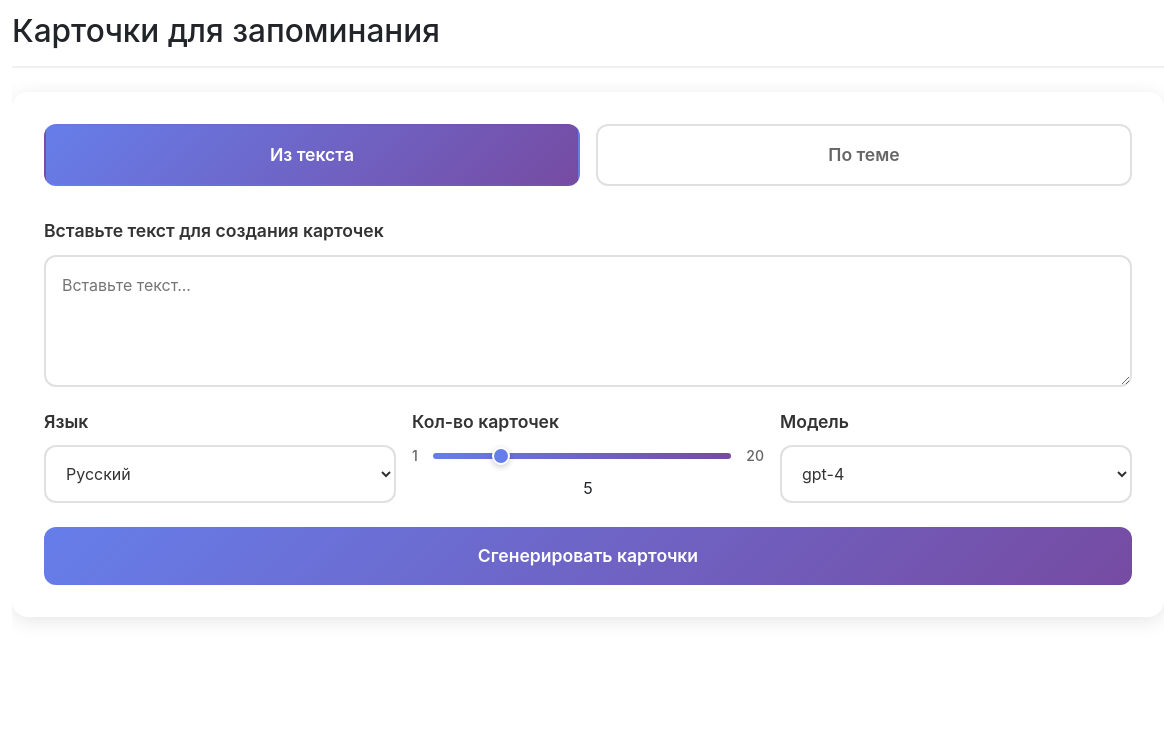
Test: FlashcardsPage › should generate flashcards from text
Type "Тестовый текст для карточек" into the text box with placeholder "Вставьте текст...".
click(588, 321); type("Тестовый текст для карточек")  # box [44, 255, 1132, 387]
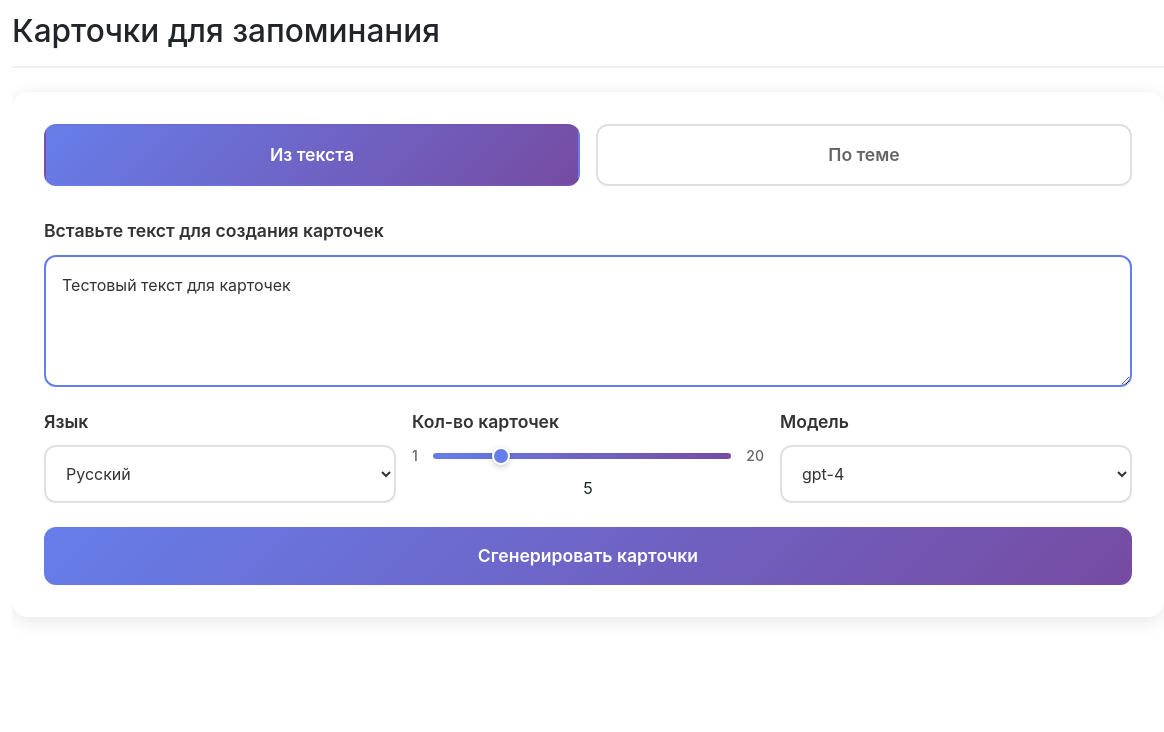
Click the button "Сгенерировать карточки".
click(588, 556)  # box [44, 527, 1132, 585]
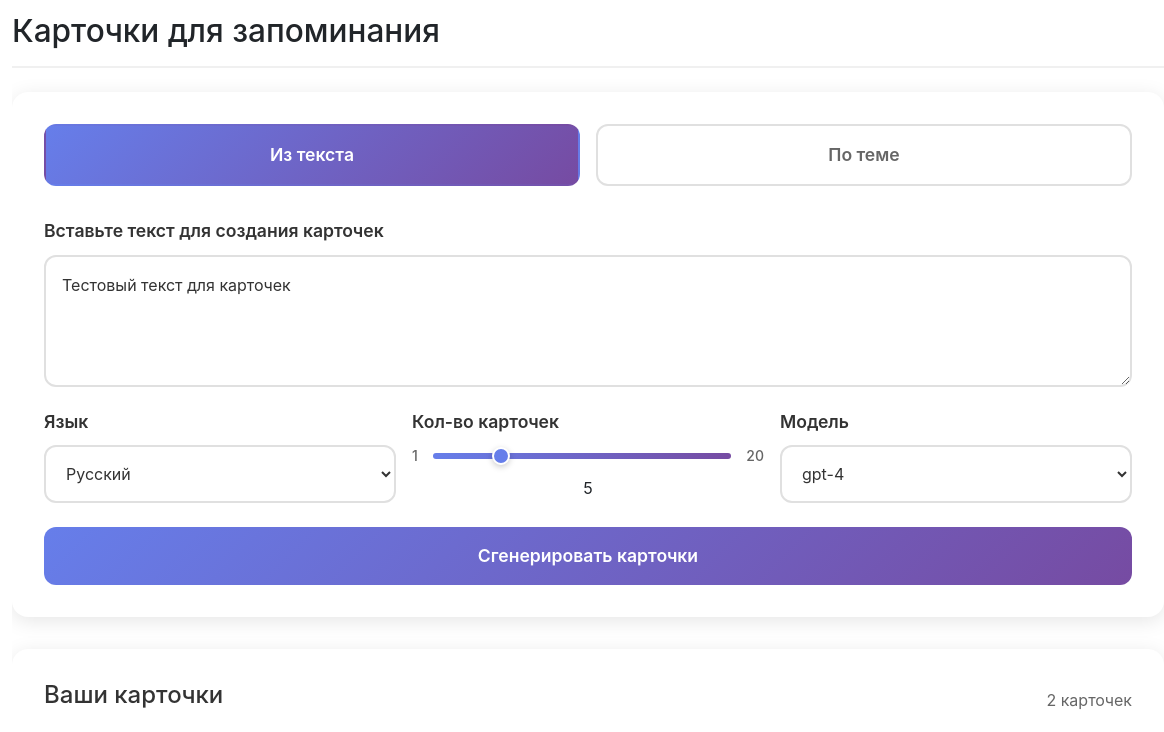
Check: the heading "Ваши карточки" is shown, box [44, 681, 223, 710]
Check: the text "2 карточек" is shown, box [1046, 688, 1132, 712]
